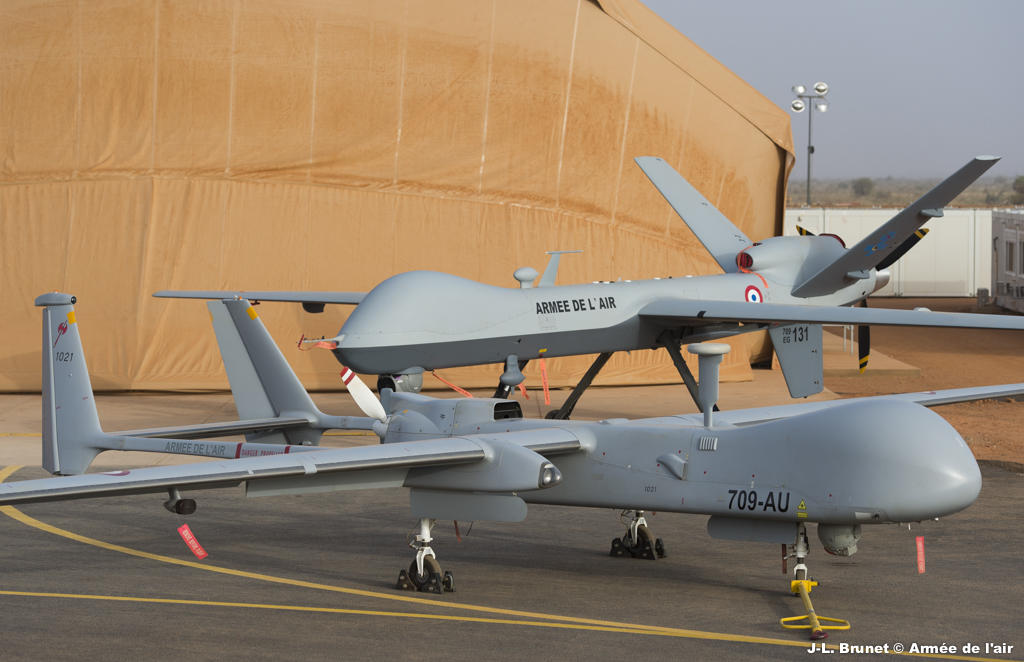Aeronef_militaire: (1, 290, 1024, 598), (145, 147, 1024, 421)
